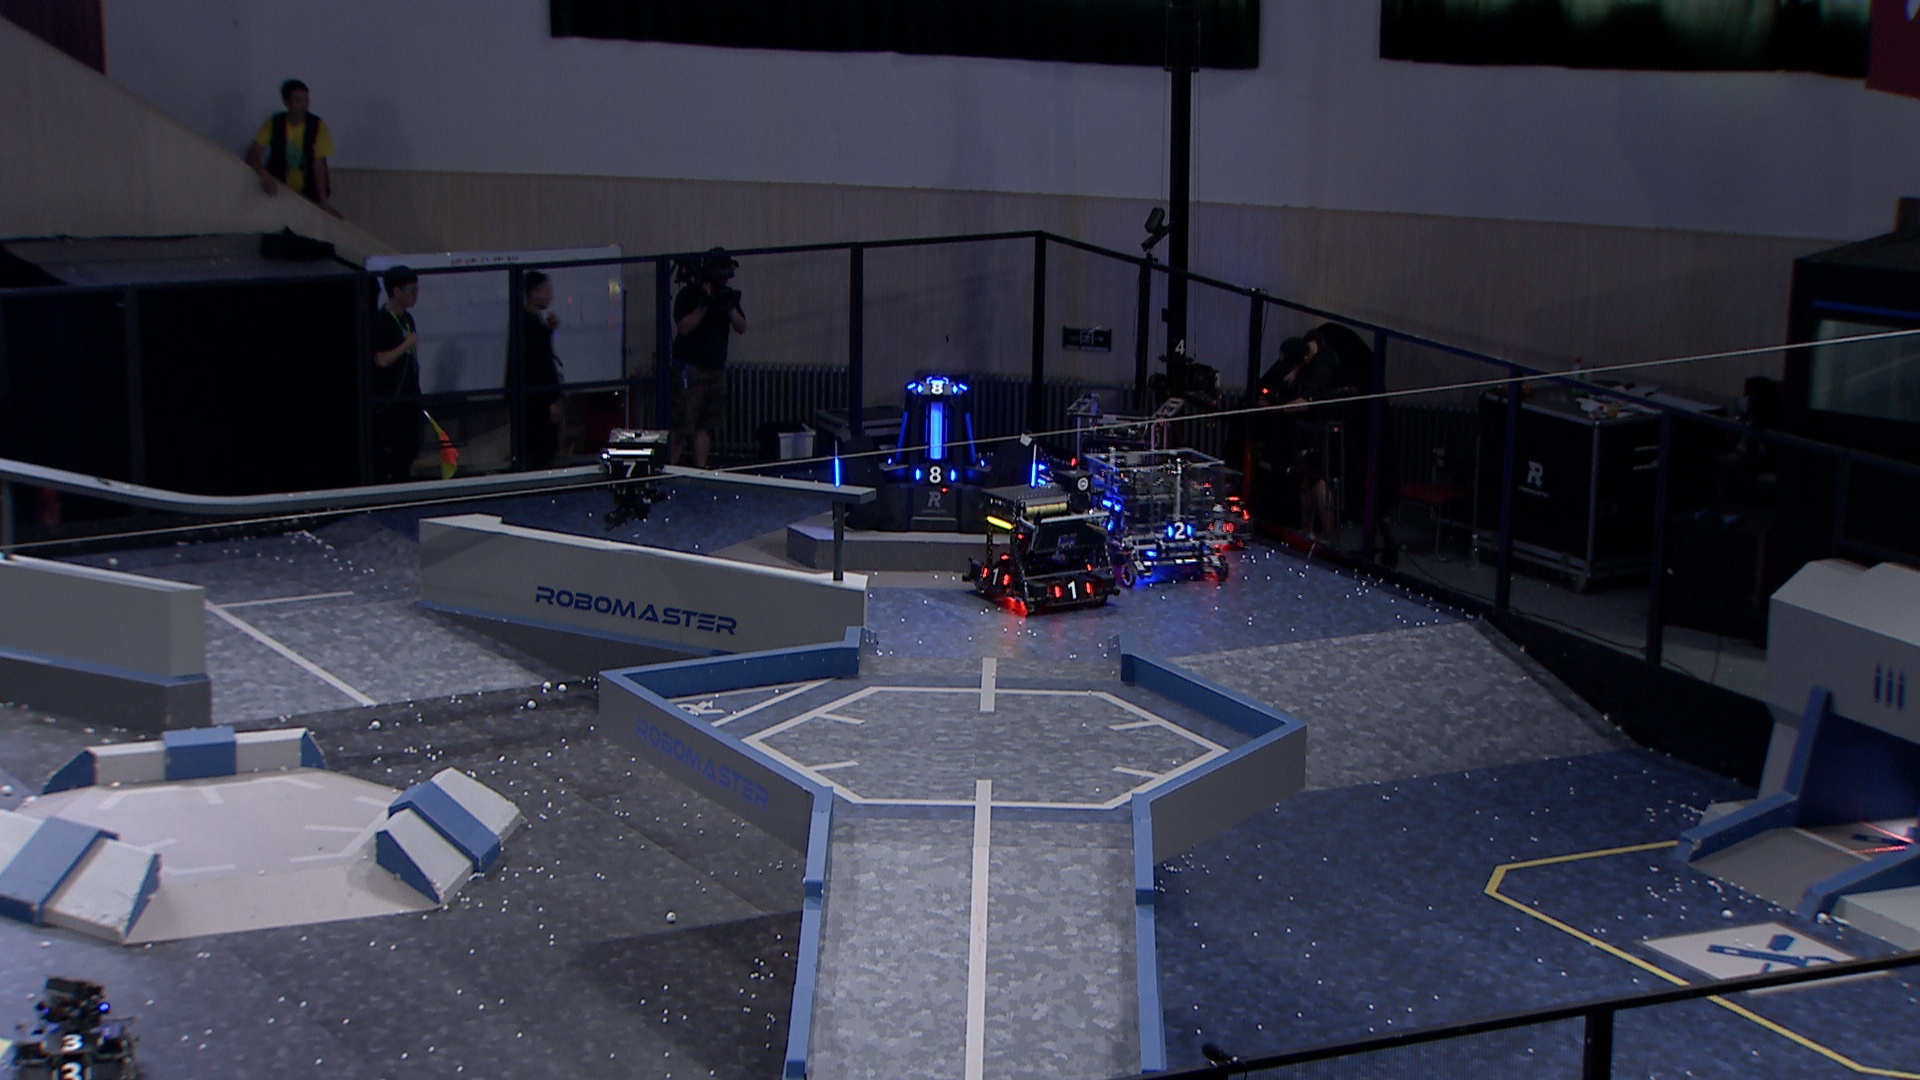armor: (38, 1030, 105, 1055), (599, 458, 655, 480), (911, 463, 960, 487), (960, 413, 981, 465), (893, 409, 913, 460), (927, 407, 945, 458), (1054, 578, 1095, 600), (49, 1060, 94, 1080), (913, 380, 961, 396), (978, 564, 1011, 585), (1163, 520, 1195, 541), (115, 1038, 138, 1064), (1207, 516, 1234, 538), (1025, 458, 1039, 491), (832, 455, 843, 488)
base: (827, 371, 1044, 538)
car: (964, 477, 1120, 618), (1096, 440, 1240, 589), (1048, 390, 1187, 531), (8, 975, 144, 1080)
watcher: (595, 425, 674, 529)
